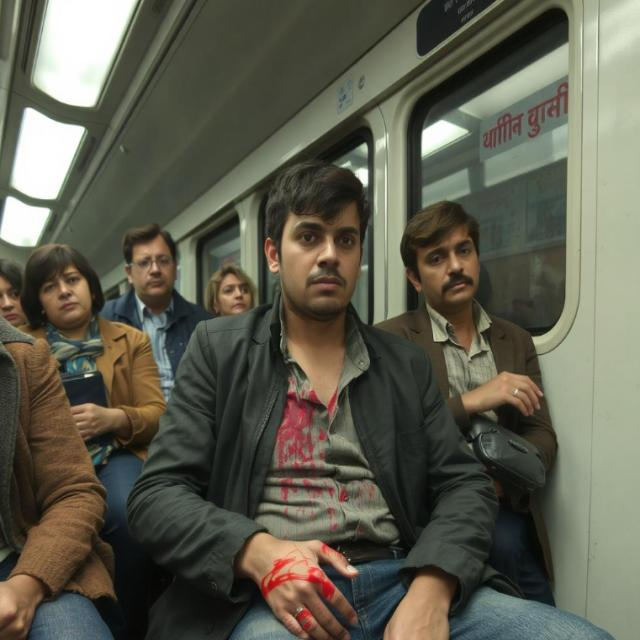Medical_Assistance: (194, 171, 486, 640)
